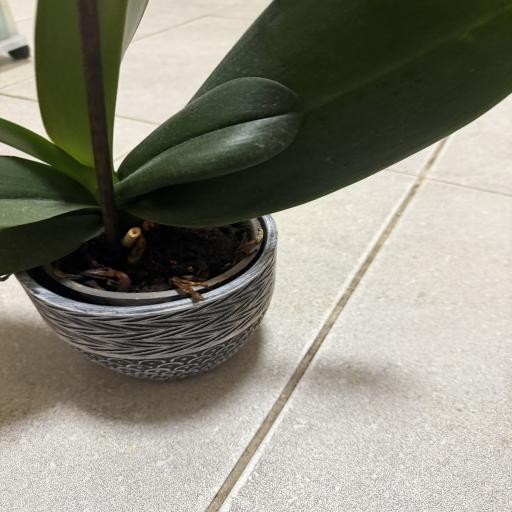Plant Pot: (16, 203, 278, 380)
